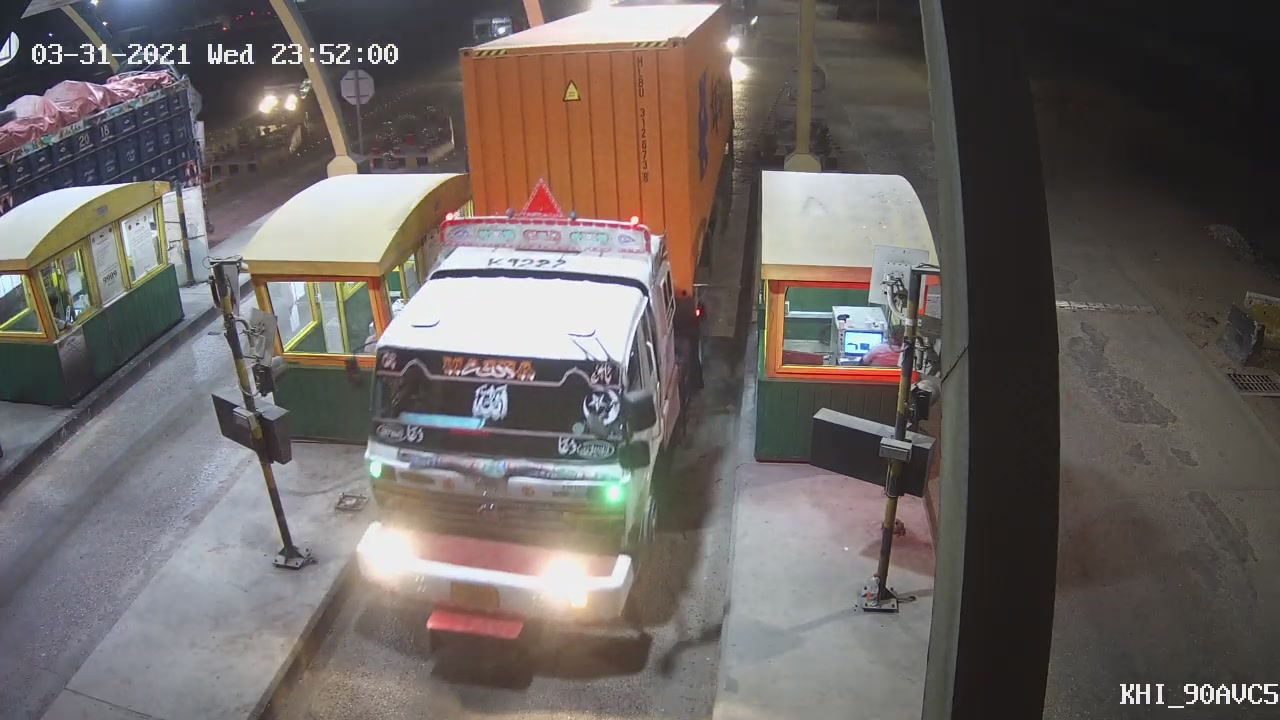F5: (362, 31, 683, 673)
